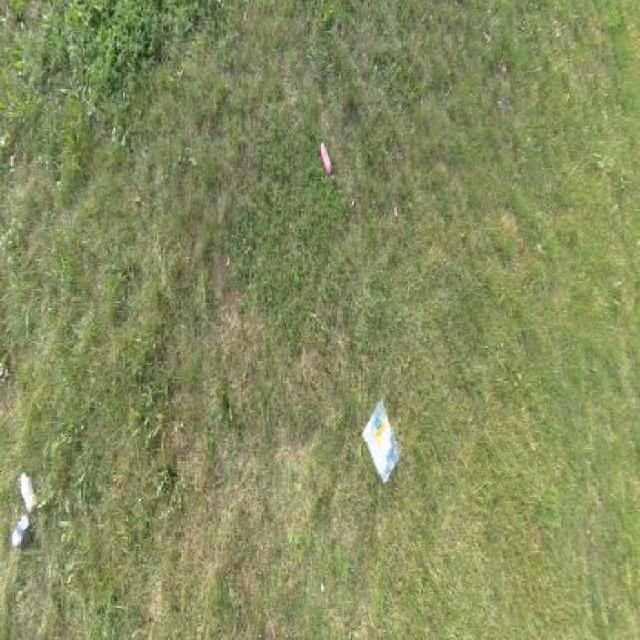Garbage: (361, 396, 401, 485), (18, 470, 37, 509), (318, 139, 333, 173), (12, 515, 29, 545)
